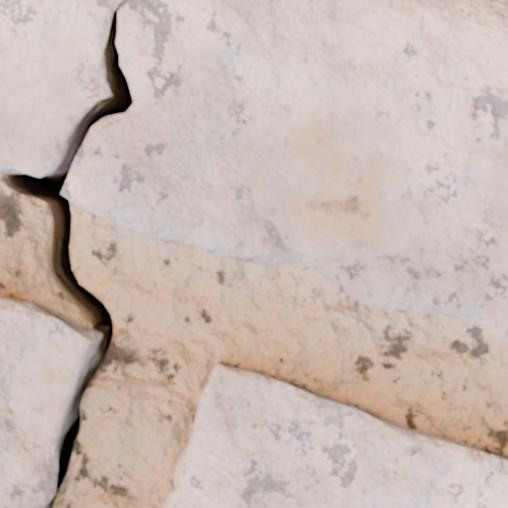brick: (162, 363, 507, 507), (0, 297, 99, 507)
broken_brick: (0, 0, 507, 344)
crack: (0, 2, 136, 507)
